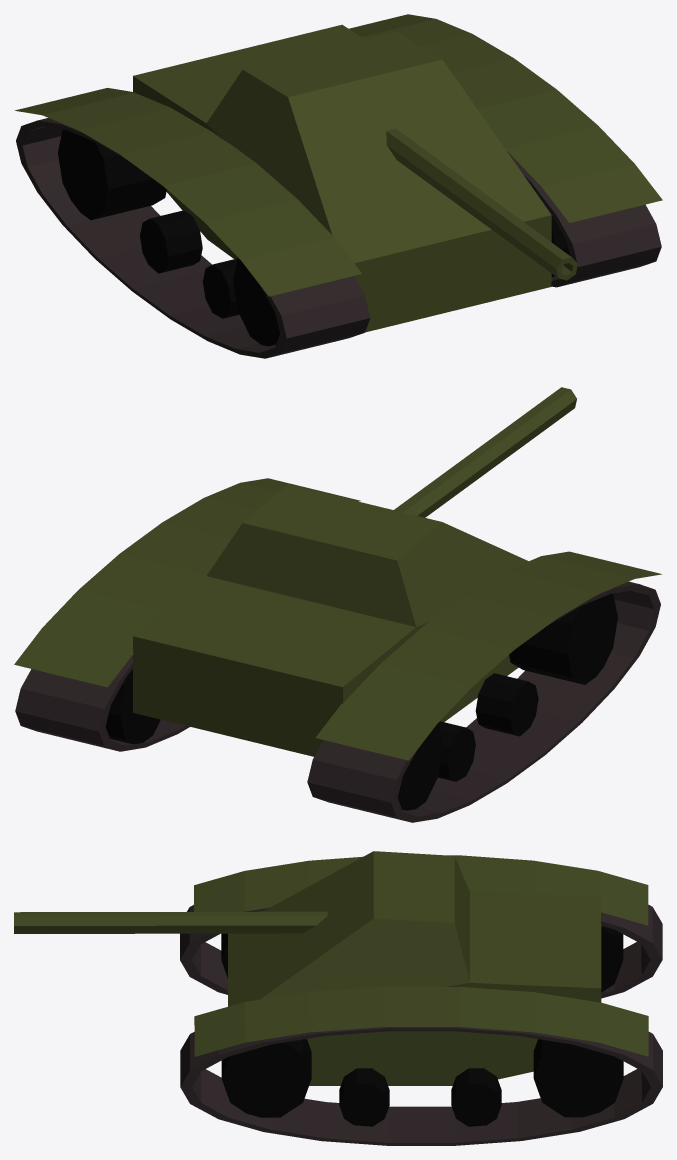
Rendered from tank_green.glb.
3 renders of one model, top to bottom at view 1: azimuth 30°, elevation 25°; view 2: azimuth 150°, elevation 25°; view 3: azimuth 270°, elevation 25°, orthographic. The views are drawn at different scales.
Visible parts, largest first — view 1: Cube.001, Cylinder.002, Cylinder.001, Cylinder.011, Cylinder.005, Cylinder.010, Cylinder.004, Cylinder.003, Cylinder.012, Cylinder.009; view 2: Cube.001, Cylinder.002, Cylinder.001, Cylinder.011, Cylinder.005, Cylinder.012, Cylinder.004, Cylinder.009, Cylinder.010, Cylinder.006, Cylinder.003; view 3: Cube.001, Cylinder.001, Cylinder.005, Cylinder.002, Cylinder.004, Cylinder, Cylinder.006, Cylinder.011, Cylinder.008, Cylinder.007, Cylinder.010.
Boxes of the visible parts, x1,y1,x2,y2 form: Cube.001: [133, 24, 551, 332]; Cylinder.002: [15, 88, 361, 296]; Cylinder.001: [349, 14, 662, 222]; Cylinder.011: [16, 118, 370, 358]; Cylinder.005: [506, 150, 661, 287]; Cylinder.010: [58, 129, 166, 220]; Cylinder.004: [386, 128, 577, 280]; Cylinder.003: [140, 210, 202, 273]; Cylinder.012: [233, 257, 279, 346]; Cylinder.009: [202, 258, 239, 318]; Cube.001: [133, 484, 528, 756]; Cylinder.002: [315, 551, 661, 760]; Cylinder.001: [14, 478, 360, 687]; Cylinder.011: [307, 581, 660, 822]; Cylinder.005: [15, 655, 189, 751]; Cylinder.012: [509, 593, 617, 684]; Cylinder.004: [394, 387, 576, 517]; Cylinder.009: [475, 673, 538, 736]; Cylinder.010: [397, 723, 443, 810]; Cylinder.006: [105, 669, 160, 744]; Cylinder.003: [438, 721, 475, 781]; Cube.001: [228, 851, 601, 1085]; Cylinder.001: [194, 986, 648, 1056]; Cylinder.005: [180, 1027, 662, 1145]; Cylinder.002: [194, 855, 648, 925]; Cylinder.004: [14, 911, 327, 933]; Cylinder: [221, 1039, 311, 1117]; Cylinder.006: [533, 1039, 623, 1117]; Cylinder.011: [180, 904, 662, 998]; Cylinder.008: [451, 1068, 501, 1126]; Cylinder.007: [339, 1068, 389, 1126]; Cylinder.010: [601, 926, 623, 992].
Bounding box in the file's own units: 0.9959 × 0.4838 × 1.59.
